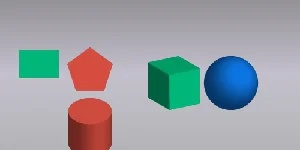五边形: (66, 46, 113, 92)
圆柱体: (67, 97, 114, 150)
正方体: (144, 54, 202, 110)
球体: (203, 54, 261, 112)
矩形: (16, 48, 61, 79)
